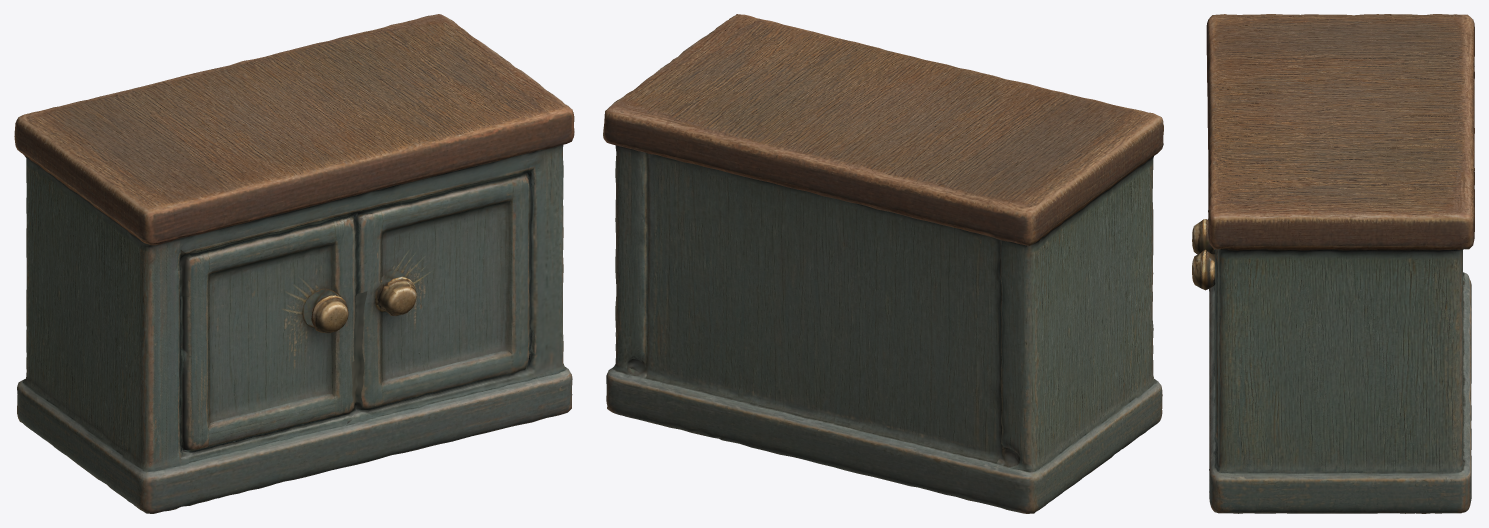
The model's file is Furn_KitchenCounter.fbx.
3 renders of one model, left to right at view 1: azimuth 30°, elevation 25°; view 2: azimuth 150°, elevation 25°; view 3: azimuth 270°, elevation 25°, orthographic. The views are drawn at different scales.
Visible parts, largest first — view 1: texture_mapping; view 2: texture_mapping; view 3: texture_mapping.
Part boxes in pixels (bbox=[...]): texture_mapping: bbox=[14, 14, 574, 513]; texture_mapping: bbox=[603, 14, 1163, 513]; texture_mapping: bbox=[1192, 14, 1474, 513].
Size of the model in its own units: 1 by 0.5798 by 0.6837.
1 material, 1 textured.
